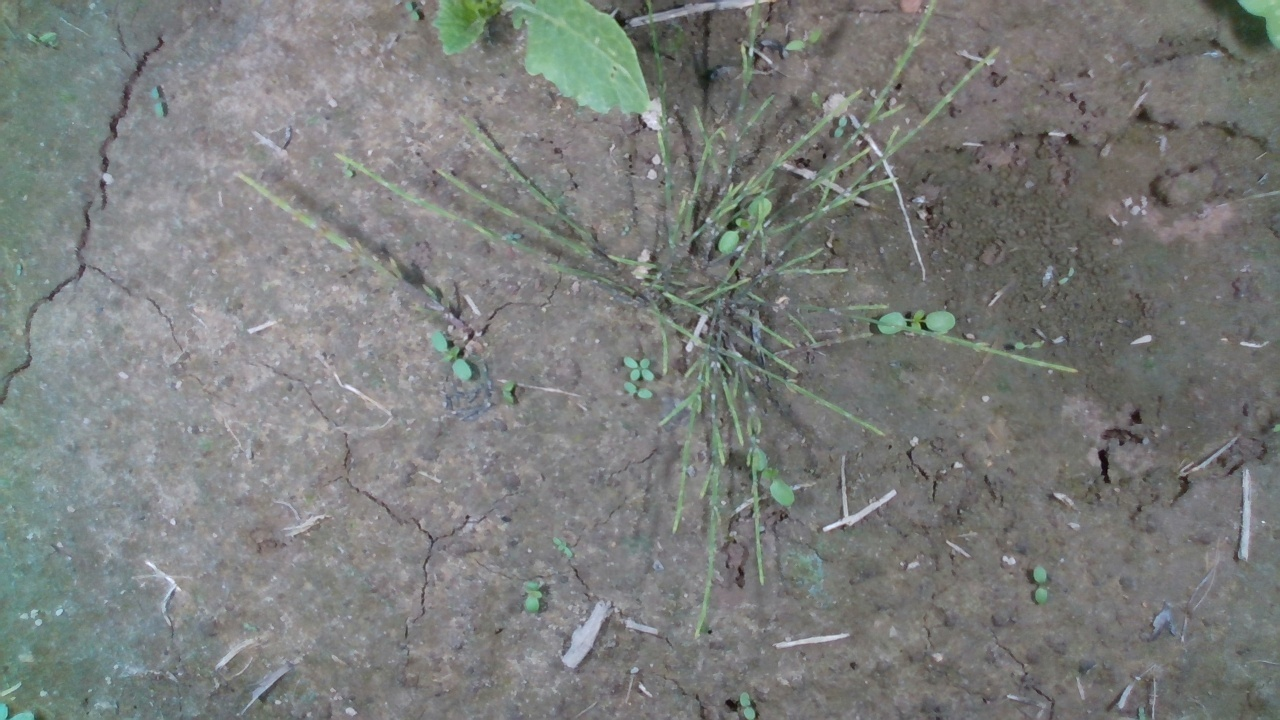weed: (430, 330, 472, 383), (622, 354, 655, 382), (520, 578, 543, 614), (1032, 562, 1049, 605), (620, 381, 653, 401), (550, 534, 574, 561), (148, 85, 165, 121), (500, 377, 517, 406), (738, 691, 755, 719), (1014, 341, 1044, 350)
